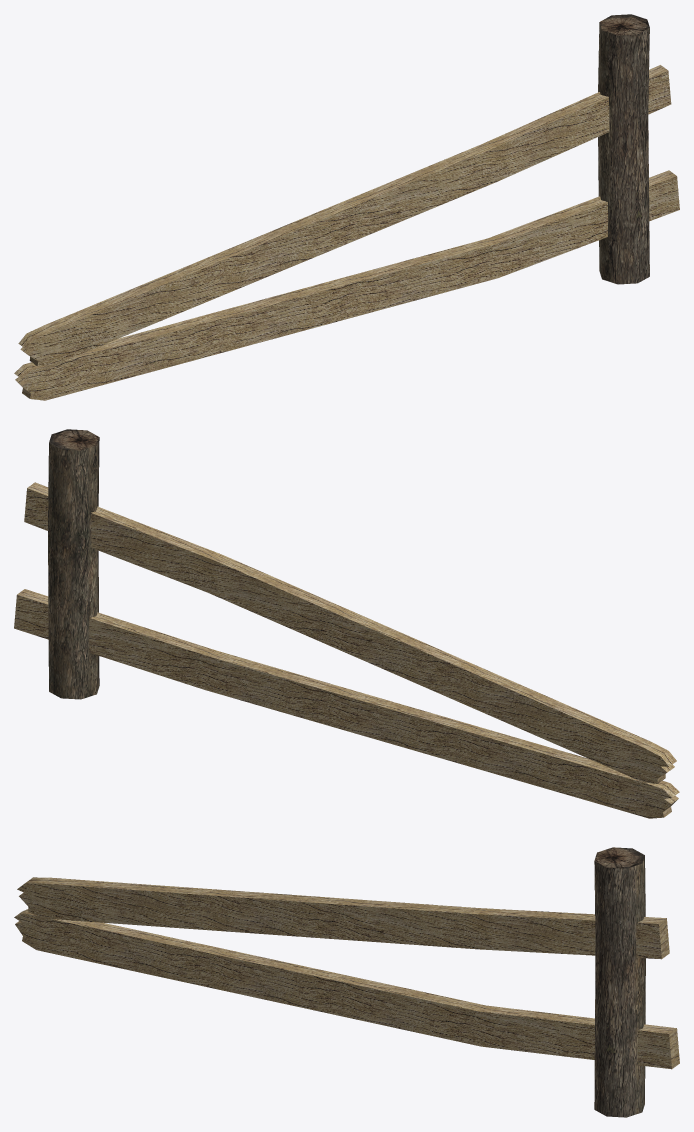
The model's file is woodenFence13.FBX.
The picture shows the model from 3 angles, top to bottom: view 1: azimuth 30°, elevation 25°; view 2: azimuth 150°, elevation 25°; view 3: azimuth 330°, elevation 25°; orthographic projection.
Visible parts, largest first — view 1: wooden_fence_large_broken_1poleR; view 2: wooden_fence_large_broken_1poleR; view 3: wooden_fence_large_broken_1poleR.
Part boxes in pixels (box(x1,y1,x2,y2)): wooden_fence_large_broken_1poleR: box(14, 14, 679, 400); wooden_fence_large_broken_1poleR: box(14, 429, 679, 818); wooden_fence_large_broken_1poleR: box(14, 847, 679, 1117).
Bounding box in the file's own units: 415 × 150 × 30.09.
